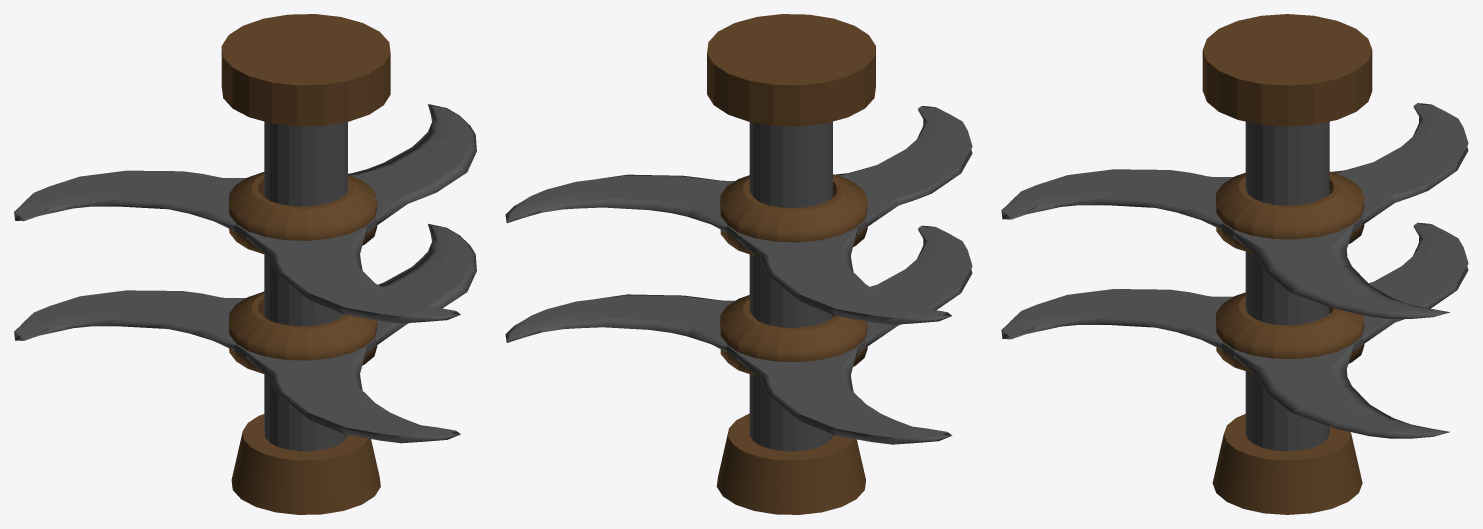
Rendered from spinning_trap.fbx.
The picture shows the model from 3 angles, left to right: view 1: azimuth 30°, elevation 25°; view 2: azimuth 150°, elevation 25°; view 3: azimuth 270°, elevation 25°; orthographic projection.
Parts seen in each view (by area): view 1: pCylinder1, pasted__group_pasted__pasted__pCylinder3, pasted__group_pasted__pasted__pCylinder2; view 2: pCylinder1, pasted__group_pasted__pasted__pCylinder3, pasted__group_pasted__pasted__pCylinder2; view 3: pCylinder1, pasted__group_pasted__pasted__pCylinder3, pasted__group_pasted__pasted__pCylinder2.
Part boxes in pixels (left/top/right/bottom): pCylinder1: left=221, top=14, right=390, bottom=514; pasted__group_pasted__pasted__pCylinder3: left=14, top=104, right=476, bottom=323; pasted__group_pasted__pasted__pCylinder2: left=14, top=224, right=476, bottom=443; pCylinder1: left=707, top=14, right=875, bottom=514; pasted__group_pasted__pasted__pCylinder3: left=505, top=106, right=972, bottom=324; pasted__group_pasted__pasted__pCylinder2: left=505, top=225, right=972, bottom=444; pCylinder1: left=1202, top=14, right=1372, bottom=514; pasted__group_pasted__pasted__pCylinder3: left=1001, top=103, right=1468, bottom=318; pasted__group_pasted__pasted__pCylinder2: left=1001, top=222, right=1468, bottom=438.
Size of the model in its own units: 6.78 by 6.37 by 6.22.
